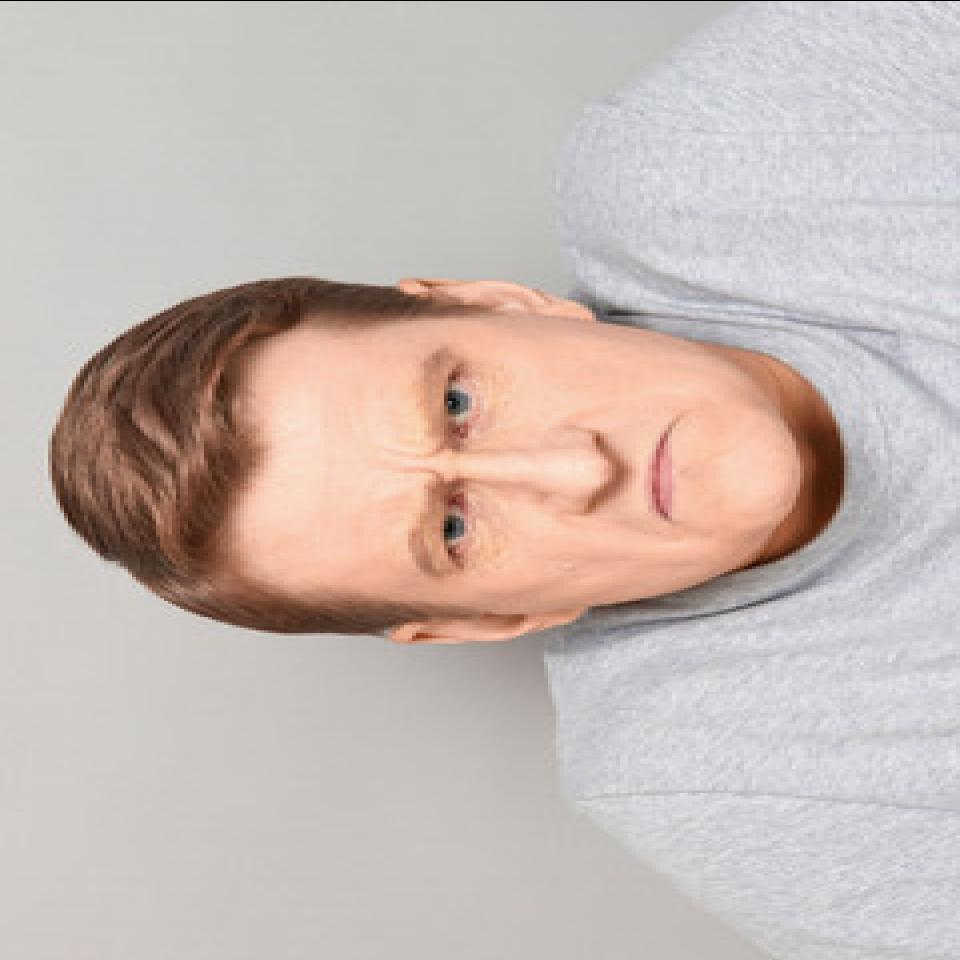Anger: (237, 319, 802, 604)
